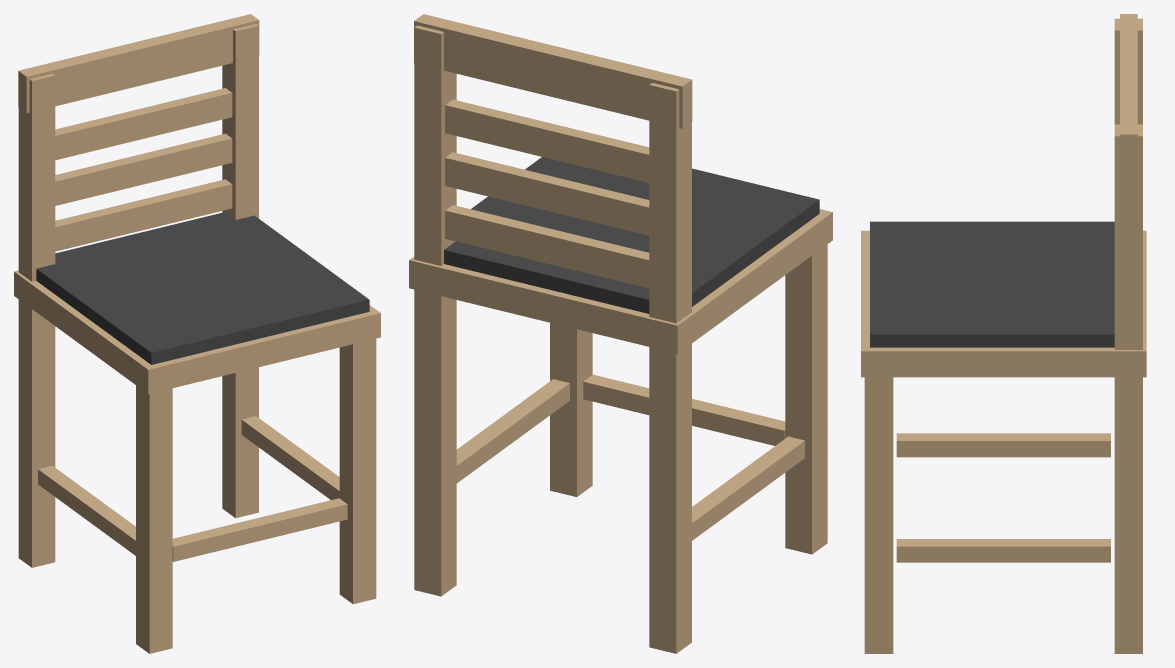
File: chair.glb
3 renders of one model, left to right at view 1: azimuth 30°, elevation 25°; view 2: azimuth 150°, elevation 25°; view 3: azimuth 270°, elevation 25°, orthographic. The views are drawn at different scales.
Bounding box in the file's own units: 0.8 × 1.61 × 0.84.
